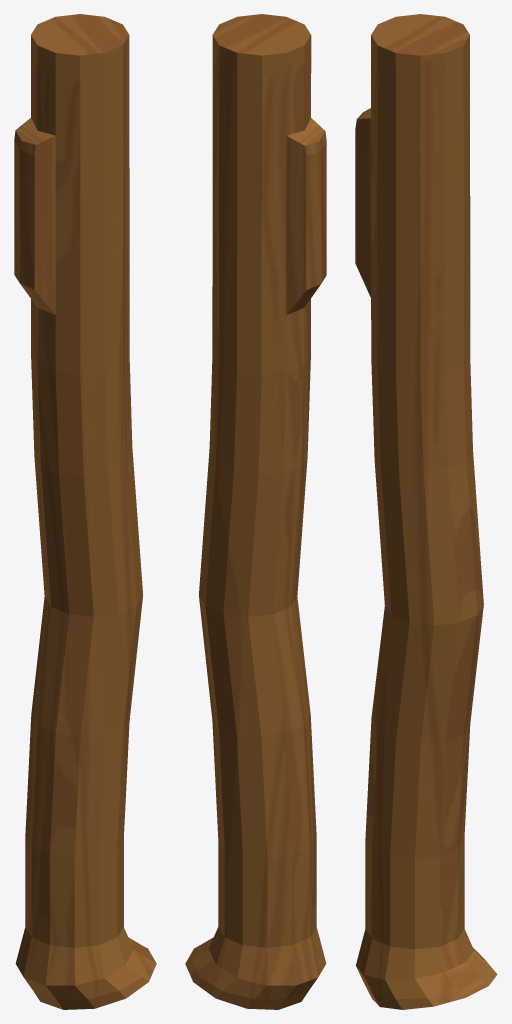
The model's file is axe_holders_3_texture.fbx.
The picture shows the model from 3 angles, left to right: view 1: azimuth 30°, elevation 25°; view 2: azimuth 150°, elevation 25°; view 3: azimuth 330°, elevation 25°; orthographic projection.
Parts seen in each view (by area): view 1: Cylinder; view 2: Cylinder; view 3: Cylinder.
Part boxes in pixels (x1,y1,x2,y2): Cylinder: [14, 14, 156, 1009]; Cylinder: [185, 14, 326, 1009]; Cylinder: [355, 14, 497, 1009].
Bounding box in the file's own units: 109 × 783 × 94.67.
1 material, 1 textured.
